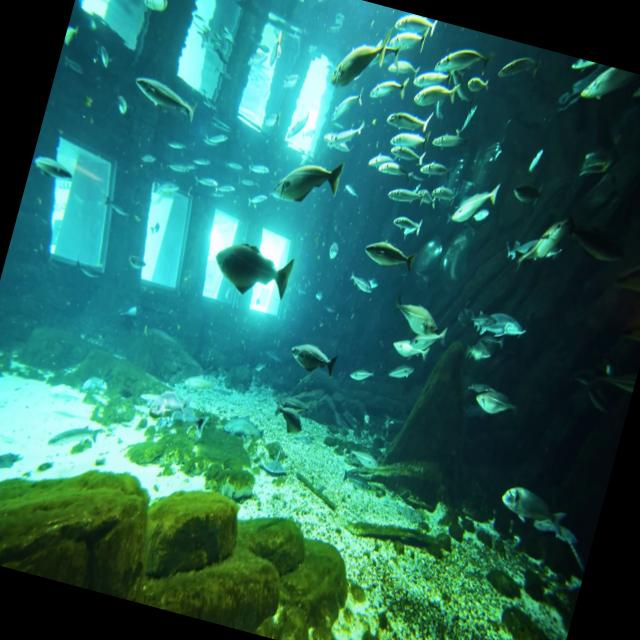fish: (208, 228, 298, 310), (123, 62, 210, 136), (320, 18, 390, 106), (272, 136, 346, 214), (492, 474, 574, 539), (443, 164, 508, 244), (509, 204, 570, 285), (383, 306, 455, 374), (462, 293, 538, 348), (282, 329, 348, 382), (358, 226, 422, 278), (426, 32, 490, 84), (492, 37, 549, 94), (576, 60, 634, 115), (388, 283, 441, 335), (466, 378, 521, 426), (378, 168, 426, 220), (389, 9, 448, 48)
